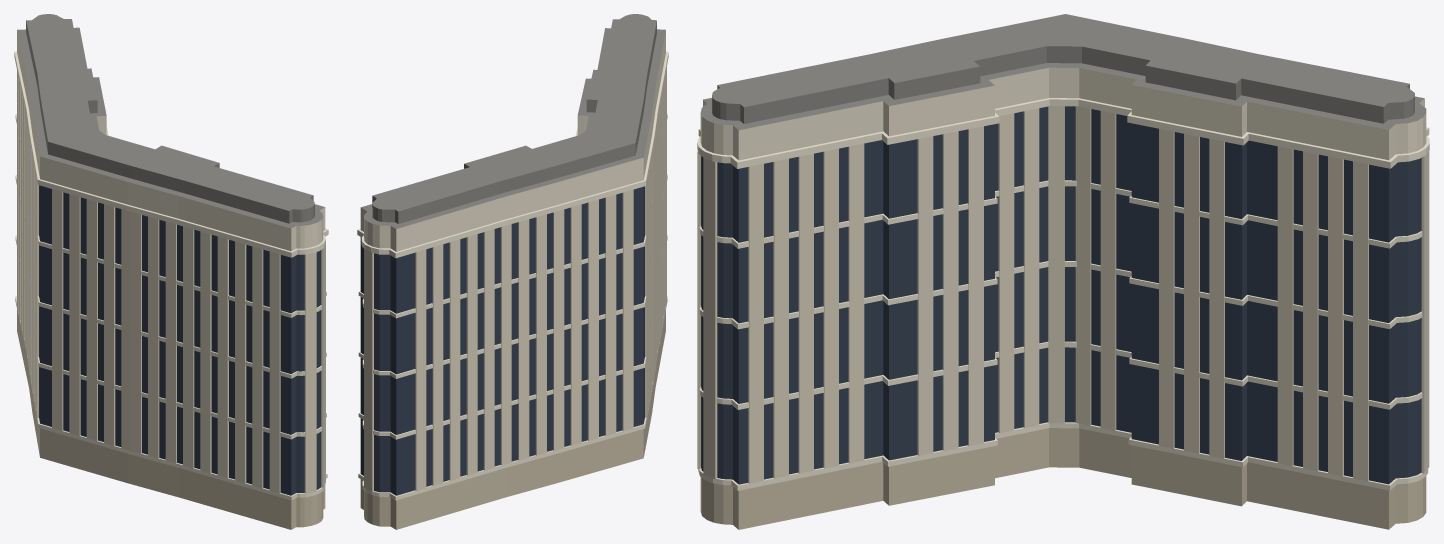
The model's file is planet_hollywood_resor_w134921373.glb.
The picture shows the model from 3 angles, left to right: view 1: azimuth 30°, elevation 25°; view 2: azimuth 150°, elevation 25°; view 3: azimuth 270°, elevation 25°; orthographic projection. The views are drawn at different scales.
Visible parts, largest first — view 1: Resort_w134921373; view 2: Resort_w134921373; view 3: Resort_w134921373.
Boxes of the visible parts, bbox=[...] form: Resort_w134921373: bbox=[14, 14, 328, 529]; Resort_w134921373: bbox=[357, 14, 668, 529]; Resort_w134921373: bbox=[697, 14, 1429, 529].
Size of the model in its own units: 69.08 by 124 by 198.
